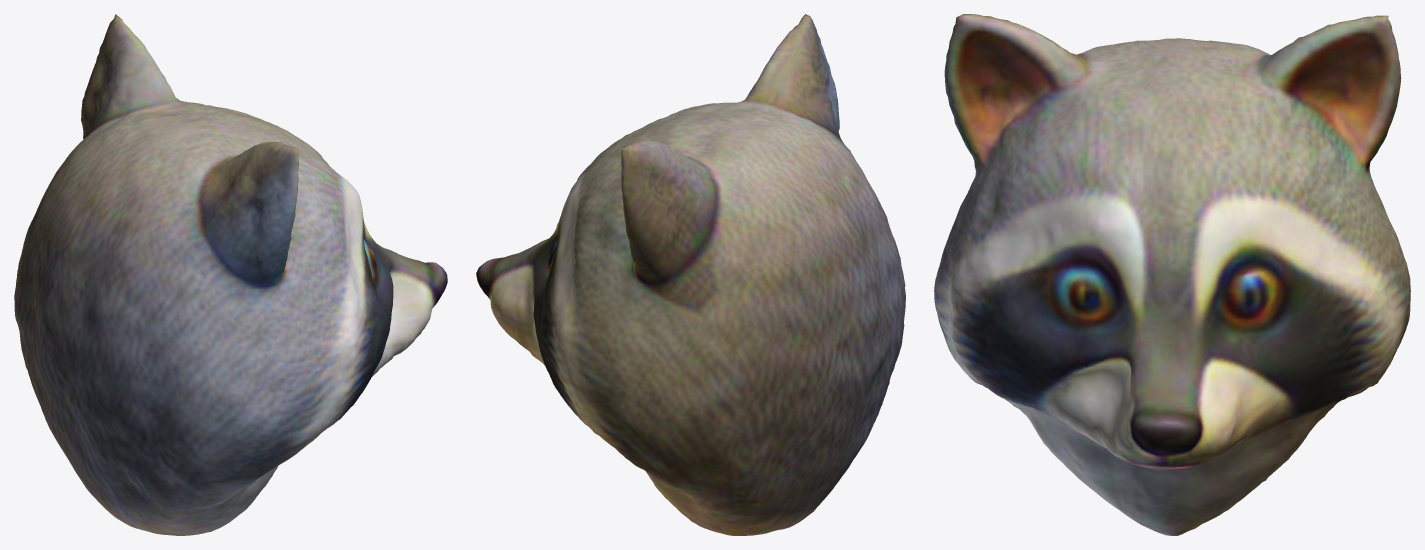
File: Raccoon_3D_Model.glb
The picture shows the model from 3 angles, left to right: view 1: azimuth 30°, elevation 25°; view 2: azimuth 150°, elevation 25°; view 3: azimuth 270°, elevation 25°; orthographic projection. The views are drawn at different scales.
Parts seen in each view (by area): view 1: Mesh1; view 2: Mesh1; view 3: Mesh1.
Boxes of the visible parts, <box> form: Mesh1: <box>14,14,447,535</box>; Mesh1: <box>476,14,905,535</box>; Mesh1: <box>934,14,1410,535</box>.
Size of the model in its own units: 1.12 by 1.2 by 1.
1 material, 1 textured.
